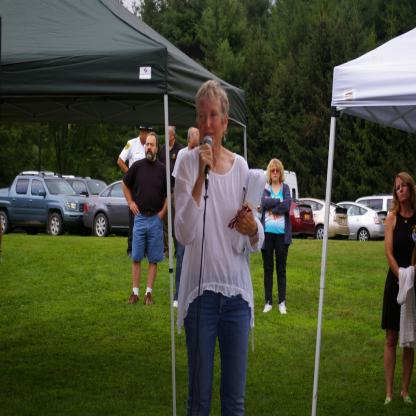Car: (1, 172, 395, 244), (84, 181, 132, 236), (300, 199, 351, 242), (339, 203, 385, 241), (290, 201, 318, 240), (350, 194, 397, 215)
